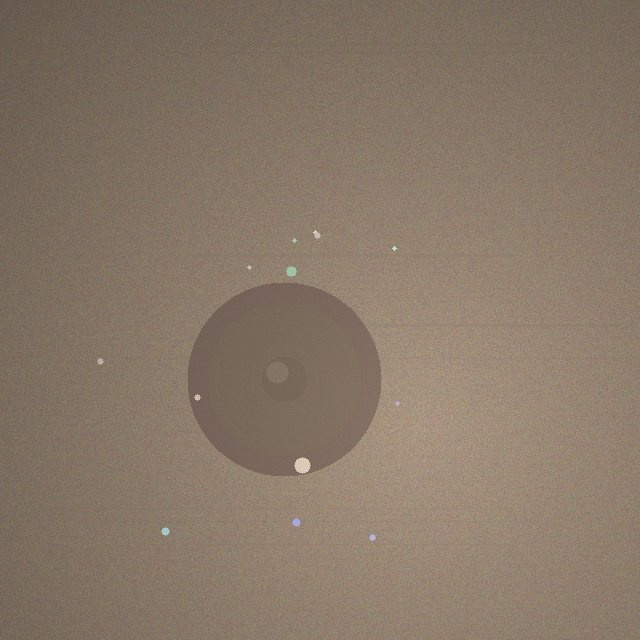overburn: (187, 282, 381, 476)
